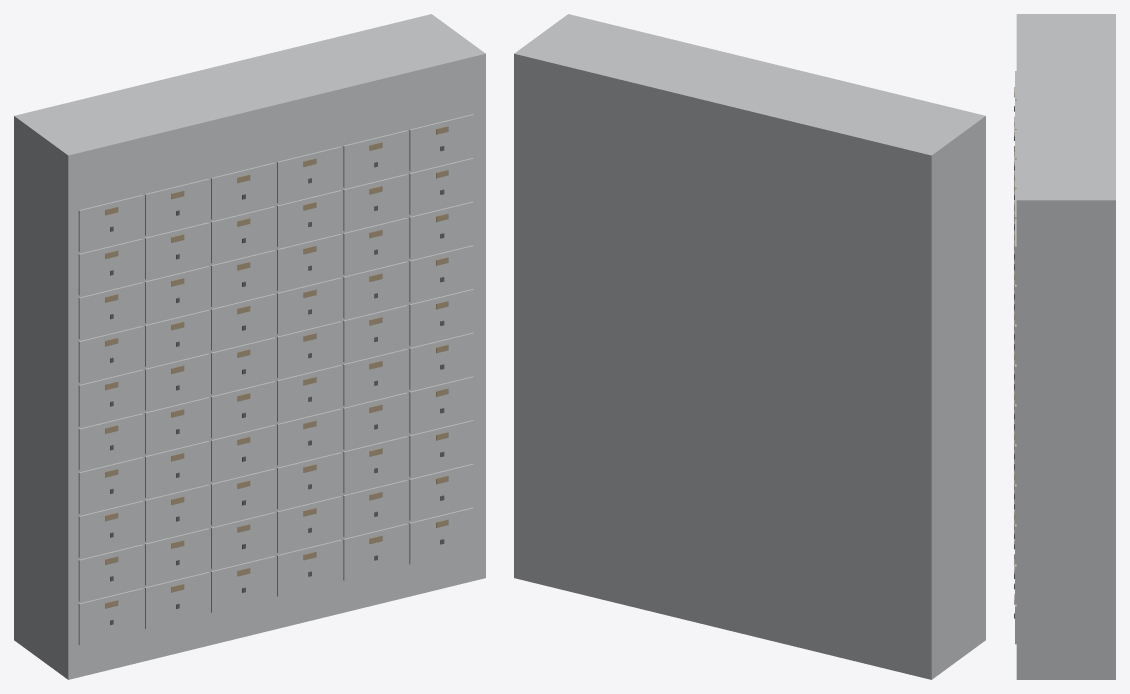
Rendered from deposit_boxes.glb.
3 views of the same model, side by side, from view 1: azimuth 30°, elevation 25°; view 2: azimuth 150°, elevation 25°; view 3: azimuth 270°, elevation 25° (orthographic). The views are drawn at different scales.
Parts seen in each view (by area): view 1: deposit_boxes_steel, deposit_boxes_bronze, deposit_boxes_dark; view 2: deposit_boxes_steel; view 3: deposit_boxes_steel, deposit_boxes_bronze, deposit_boxes_dark.
Part boxes in pixels (x1,y1,x2,y2): deposit_boxes_steel: [14, 14, 485, 679]; deposit_boxes_bronze: [105, 126, 448, 608]; deposit_boxes_dark: [110, 146, 444, 624]; deposit_boxes_steel: [514, 14, 985, 679]; deposit_boxes_steel: [1015, 14, 1115, 679]; deposit_boxes_bronze: [1014, 87, 1014, 604]; deposit_boxes_dark: [1014, 106, 1014, 618].
Size of the model in its own units: 2 by 2.4 by 0.462.
